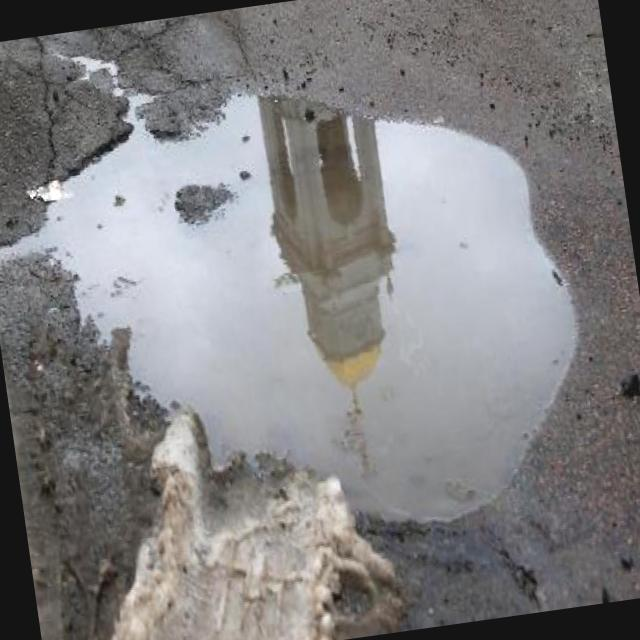Lubang: (6, 94, 575, 517)
